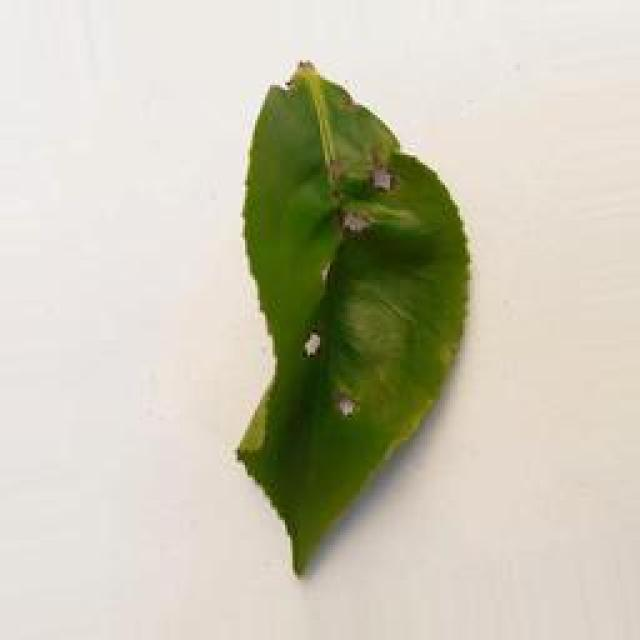Helopeltis: (233, 62, 470, 580)
